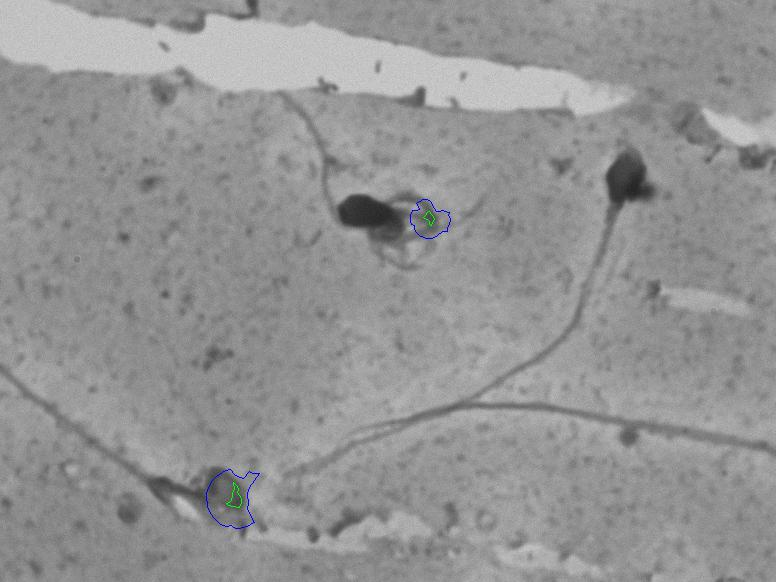Abnormal: (501, 142, 684, 367), (248, 91, 400, 273)
